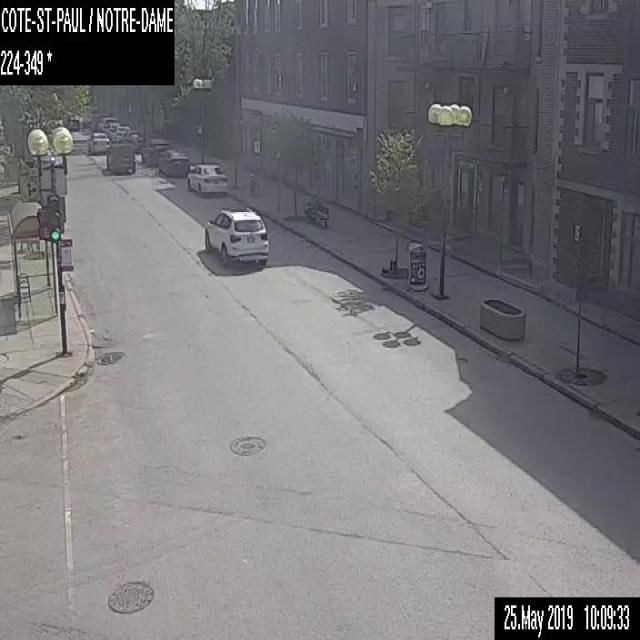vehicle: (203, 204, 270, 268), (186, 164, 228, 196), (106, 136, 136, 172), (157, 149, 189, 175), (143, 138, 169, 165), (86, 132, 108, 152), (111, 125, 130, 141), (98, 116, 117, 132), (39, 146, 54, 164), (106, 121, 120, 138)
